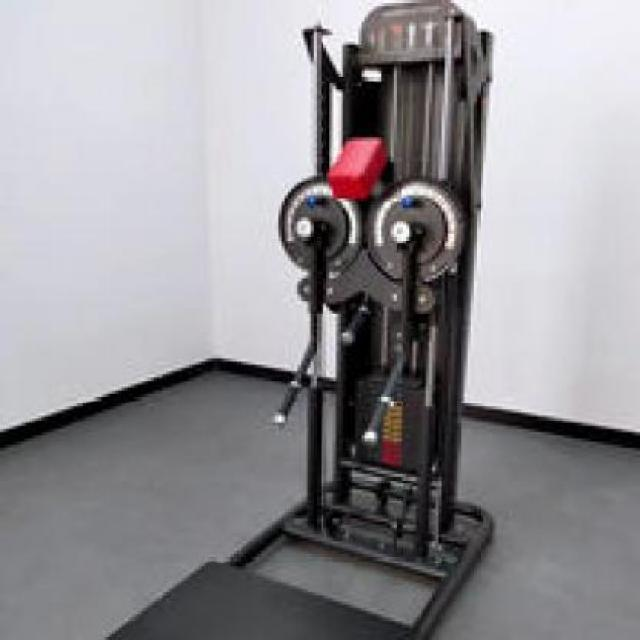lateral raises machine: (268, 3, 497, 640)
